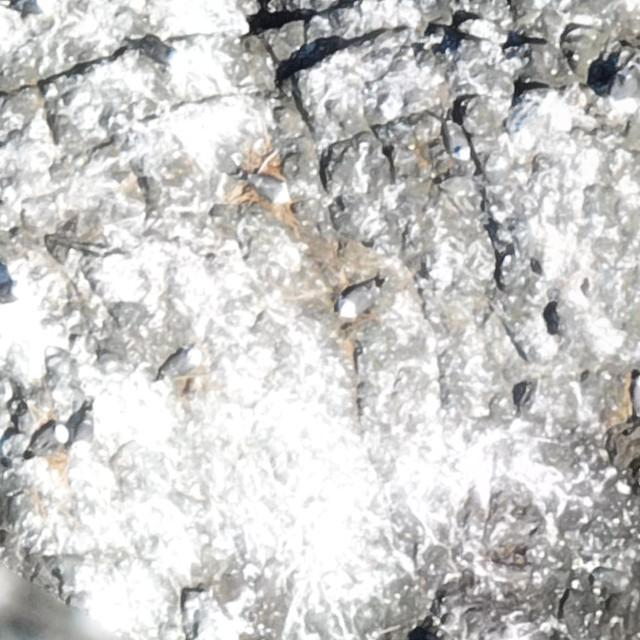umineko: (141, 32, 187, 70), (23, 424, 68, 461), (616, 72, 640, 114), (339, 286, 372, 315), (74, 412, 96, 455), (250, 178, 290, 201), (164, 353, 197, 377), (446, 123, 466, 157), (17, 0, 47, 14), (1, 285, 22, 304), (632, 377, 639, 415)
